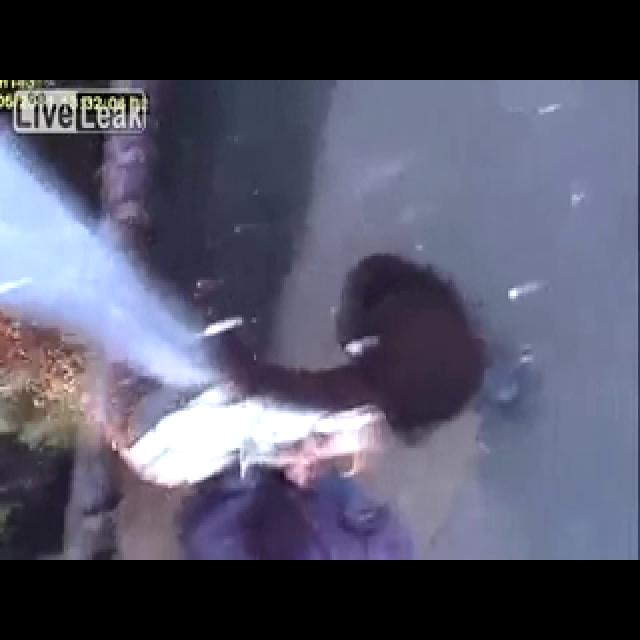vandalism: (115, 217, 489, 522)
